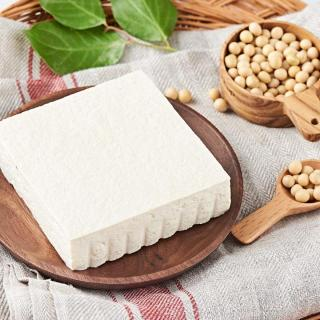Tahu: (3, 70, 225, 262)
